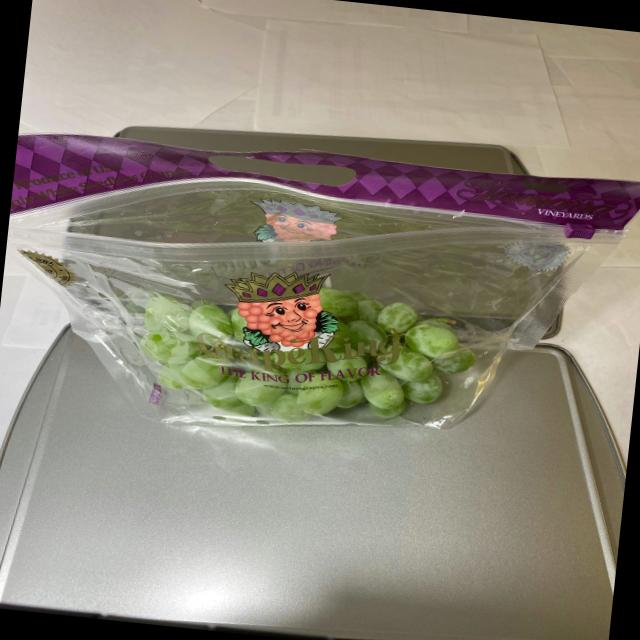grapes: (107, 269, 484, 438)
